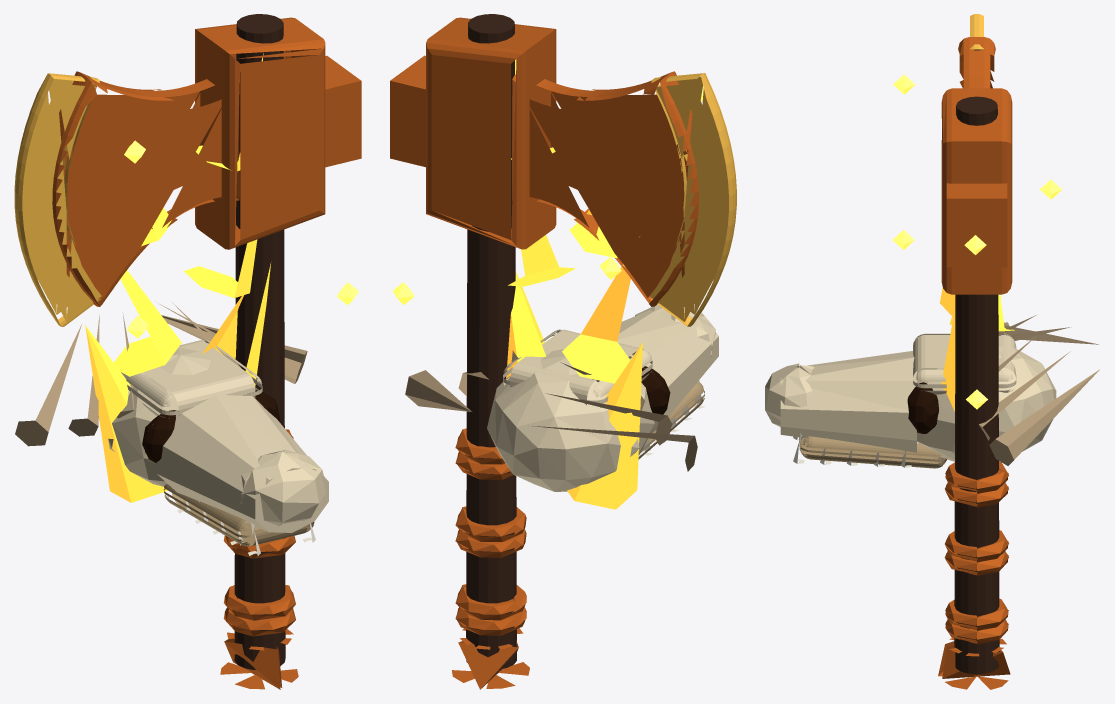
File: dragonclaw_axe.glb
3 views of the same model, side by side, from view 1: azimuth 30°, elevation 25°; view 2: azimuth 150°, elevation 25°; view 3: azimuth 270°, elevation 25° (orthographic). The views are drawn at different scales.
Parts seen in each view (by area): view 1: dragonclaw_axe; view 2: dragonclaw_axe; view 3: dragonclaw_axe.
Part boxes in pixels (<box>): dragonclaw_axe: <box>14,14,361,689</box>; dragonclaw_axe: <box>390,14,736,689</box>; dragonclaw_axe: <box>765,14,1099,689</box>.
Size of the model in its own units: 0.6898 by 1.26 by 0.6663.
